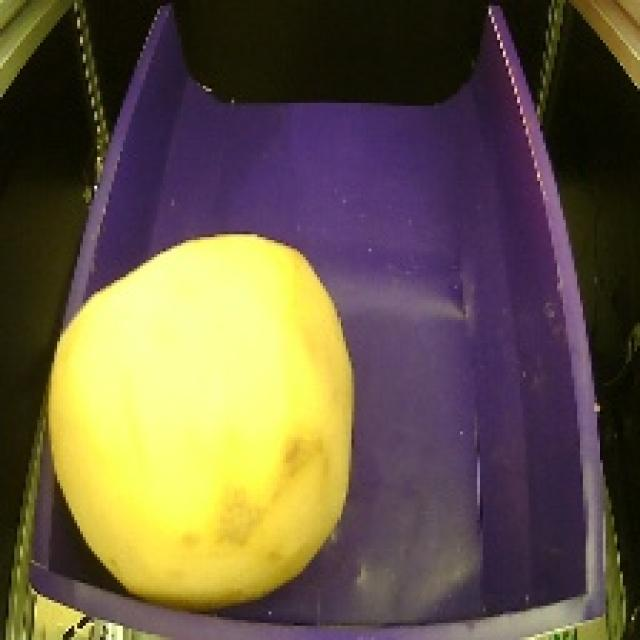full_potato: (37, 221, 371, 617)
